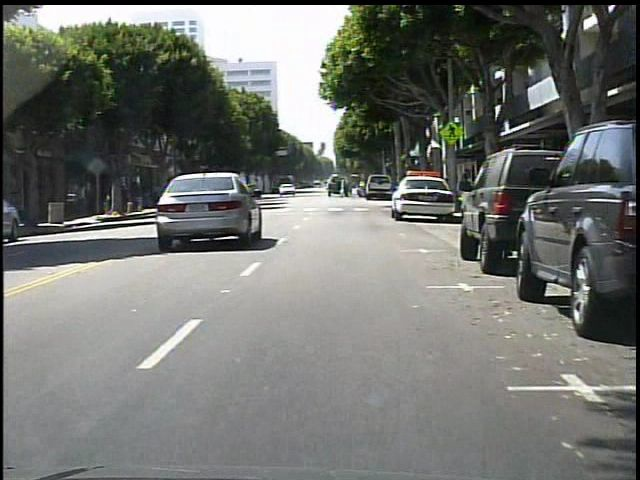person: (79, 180, 90, 214), (119, 186, 130, 215), (113, 184, 122, 213), (343, 176, 344, 198)
